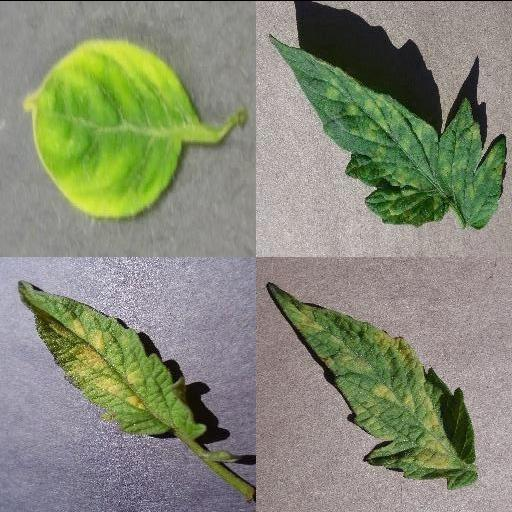Leaf Mold: (271, 33, 507, 229), (266, 281, 478, 487), (18, 280, 208, 442)
Yellow Leaf Curl Virus: (22, 38, 200, 218)
